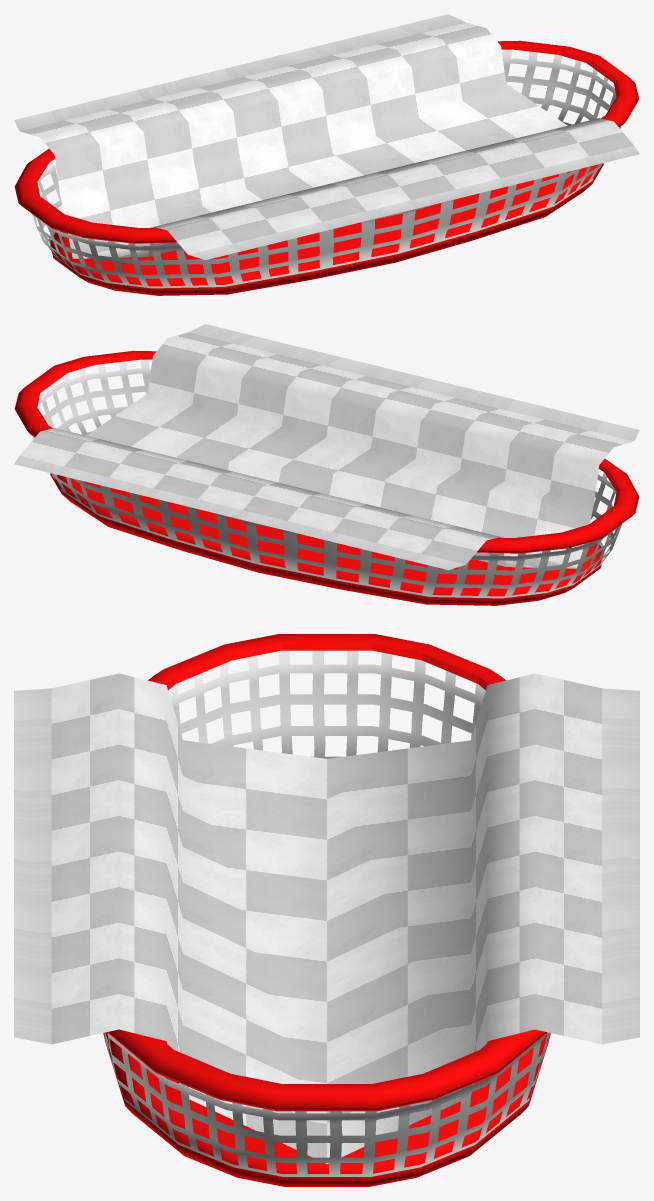
Rendered from basket.fbx.
3 renders of one model, top to bottom at view 1: azimuth 30°, elevation 25°; view 2: azimuth 150°, elevation 25°; view 3: azimuth 270°, elevation 25°, orthographic. The views are drawn at different scales.
Visible parts, largest first — view 1: Basket; view 2: Basket; view 3: Basket.
Boxes of the visible parts, <box> form: Basket: <box>14,14,639,295</box>; Basket: <box>14,324,639,605</box>; Basket: <box>14,634,639,1186</box>.
Size of the model in its own units: 37.78 by 5.1 by 21.39.
